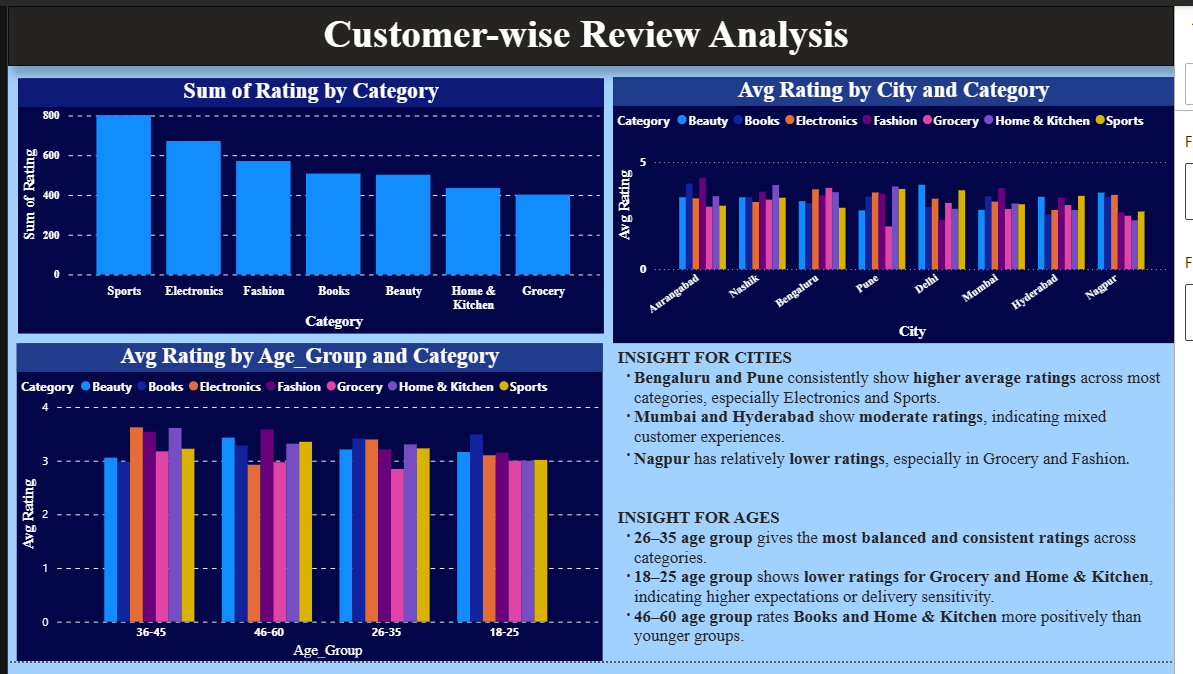

Layout of this report page (visuals, bound fields, positions):
{"tool":"powerbi","page":{"name":"Page 4","canvas":[1280,720],"ordinal":3},"visuals":[{"type":"clusteredColumnChart","fields":{"Y":["Sum(Reviews.Rating)"],"Category":["Products.Category"]},"box":[11,79.6,643.6,279.9],"z":0},{"type":"clusteredColumnChart","fields":{"Category":["customer.Age_Group"],"Y":["Orders.Avg Rating"],"Series":["Products.Category"]},"box":[9.6,370.5,643.6,349.9],"z":1000},{"type":"clusteredColumnChart","fields":{"Category":["customer.City"],"Y":["Orders.Avg Rating"],"Series":["Products.Category"]},"box":[664.2,78.2,616.1,292.3],"z":2000},{"type":"textbox","box":[0,0,1280.3,65.9],"z":3000},{"type":"textbox","box":[664.2,370.5,616.1,150.9],"z":4000},{"type":"textbox","box":[664.2,546.1,616.1,174.3],"z":5000}]}

Visuals, with their boxes in screenshot pixels (x1, y1, x2, y2), scaled from the page's 1280x720 canvas onto the 1193x674 screenshot:
clusteredColumnChart - Sum(Reviews.Rating) x Products.Category: 10/75/610/337
clusteredColumnChart - customer.Age_Group x Orders.Avg Rating: 9/347/609/673
clusteredColumnChart - customer.City x Orders.Avg Rating: 619/73/1192/347
textbox: 0/0/1192/62
textbox: 619/347/1192/488
textbox: 619/511/1192/673
